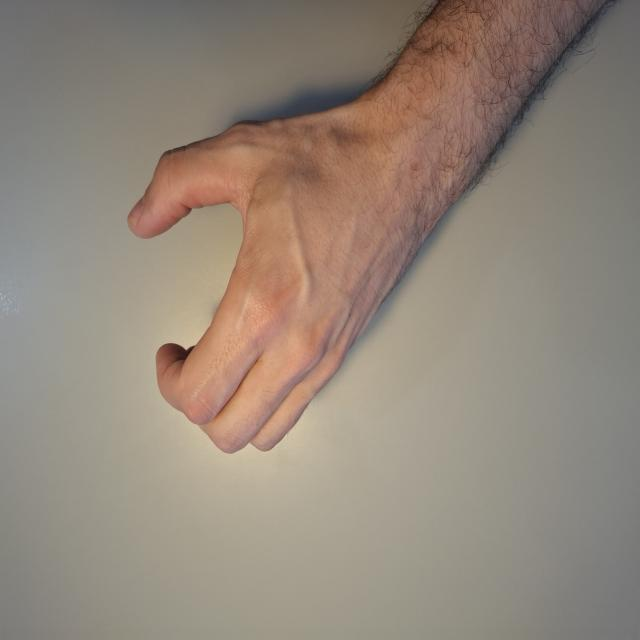glove_off: (126, 106, 430, 458)
